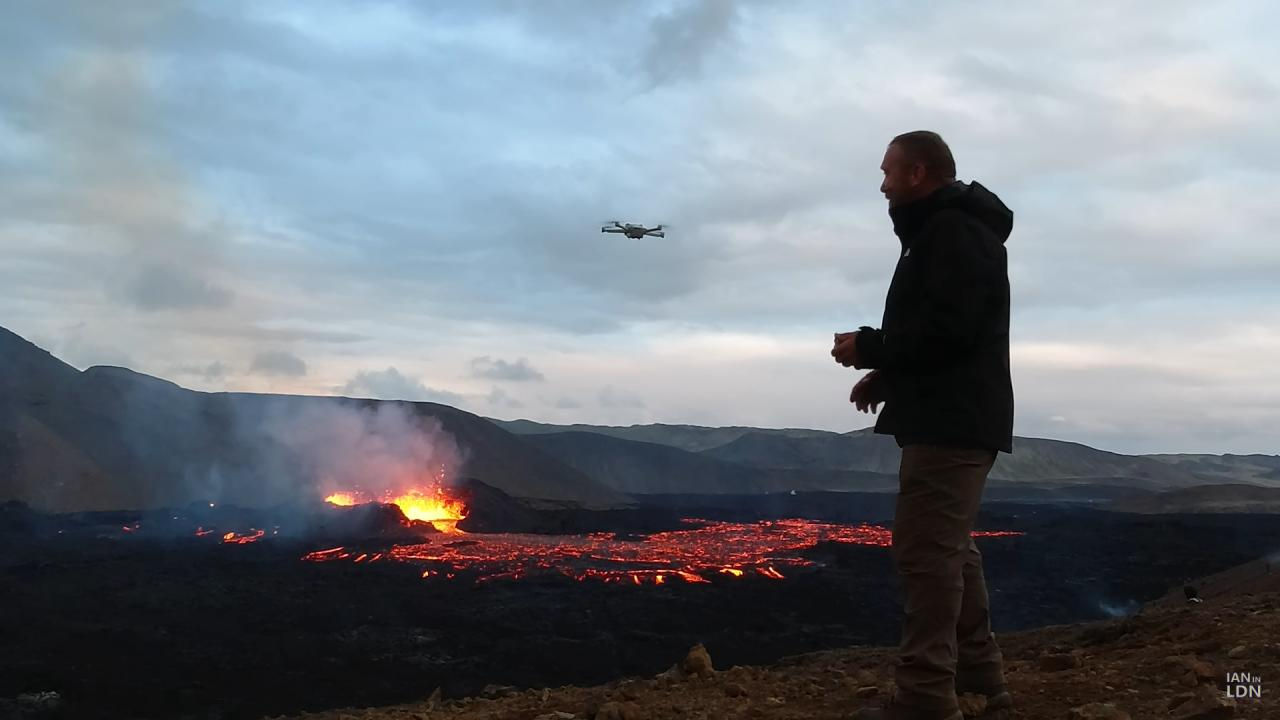Drone: (585, 205, 686, 254)
